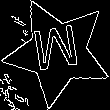M_S: (31, 23, 84, 81)
